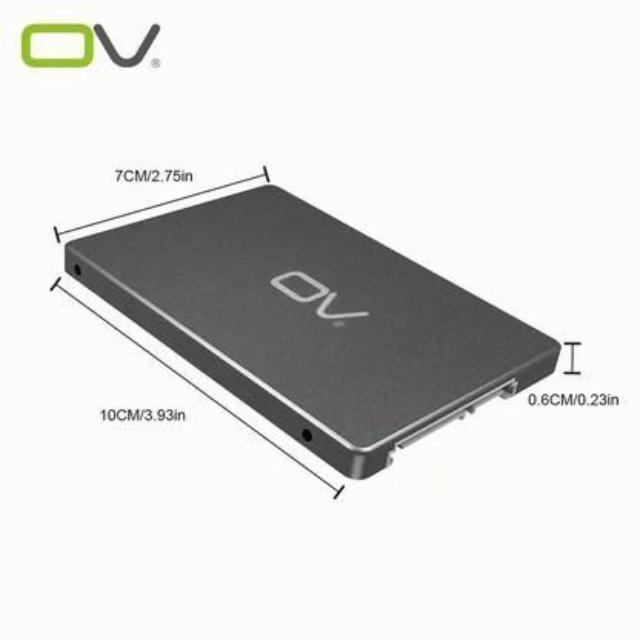DISK: (54, 168, 566, 496)
